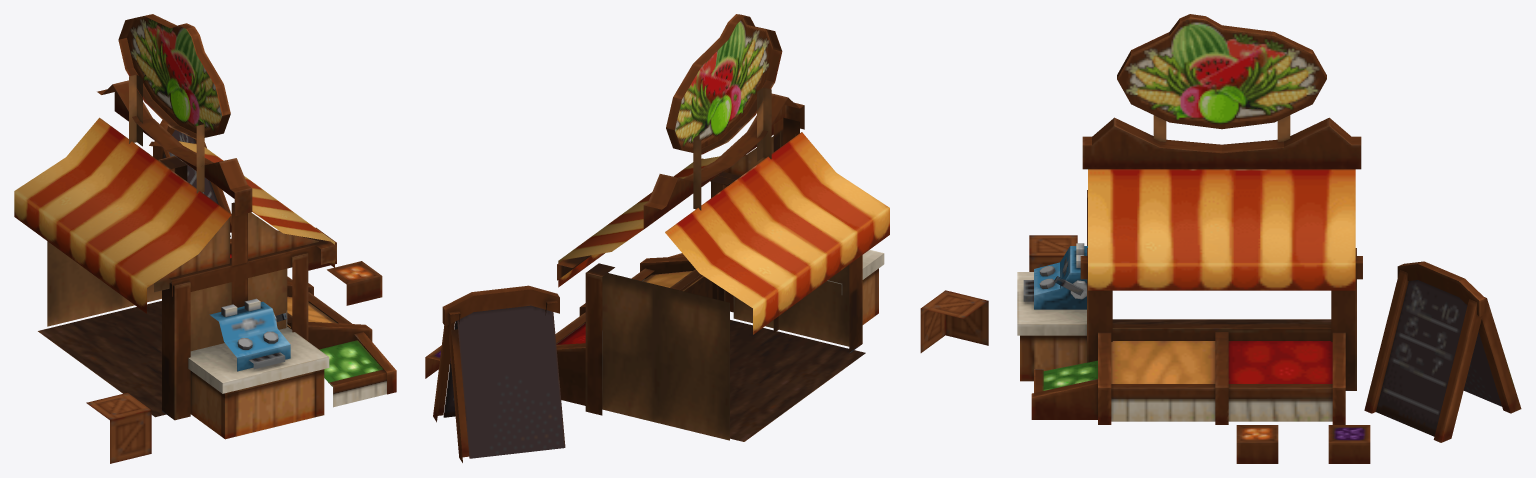
Rendered from market.gltf.
3 views of the same model, side by side, from view 1: azimuth 30°, elevation 25°; view 2: azimuth 150°, elevation 25°; view 3: azimuth 270°, elevation 25° (orthographic). The views are drawn at different scales.
Visible parts, largest first — view 1: polySurface155, polySurface108, polySurface129, polySurface111, polySurface110, polySurface141, polySurface158, polySurface136, polySurface109, polySurface112, polySurface135, polySurface149 (+16 smaller); view 2: polySurface155, polySurface141, polySurface128, polySurface108, polySurface129, polySurface136, polySurface109, polySurface152, polySurface149, polySurface126, polySurface127, polySurface144 (+12 smaller); view 3: polySurface149, polySurface108, polySurface128, polySurface109, polySurface121, polySurface120, polySurface126, polySurface118, polySurface111, polySurface110, polySurface124, polySurface112 (+12 smaller).
Boxes of the visible parts, x1,y1,x2,y2 form: polySurface155: (14, 117, 231, 313); polySurface108: (118, 14, 230, 139); polySurface129: (38, 301, 166, 417); polySurface111: (190, 369, 324, 439); polySurface110: (188, 327, 329, 393); polySurface141: (47, 165, 170, 326); polySurface158: (162, 281, 190, 420); polySurface136: (190, 268, 287, 351); polySurface109: (97, 80, 252, 216); polySurface112: (209, 301, 290, 371); polySurface135: (169, 238, 324, 296); polySurface149: (179, 141, 334, 267); polySurface155: (665, 132, 889, 334); polySurface141: (602, 273, 729, 440); polySurface128: (443, 305, 565, 458); polySurface108: (666, 14, 782, 154); polySurface129: (730, 320, 865, 441); polySurface136: (733, 181, 849, 346); polySurface109: (643, 93, 804, 229); polySurface152: (585, 263, 614, 415); polySurface149: (558, 156, 719, 287); polySurface126: (433, 311, 469, 462); polySurface127: (442, 285, 559, 326); polySurface144: (556, 343, 585, 405); polySurface149: (1088, 169, 1355, 290); polySurface108: (1117, 14, 1326, 129); polySurface128: (1376, 280, 1501, 436); polySurface109: (1082, 117, 1361, 169); polySurface121: (1111, 341, 1332, 383); polySurface120: (1111, 384, 1332, 421); polySurface126: (1433, 297, 1521, 442); polySurface118: (1112, 324, 1331, 340); polySurface111: (1020, 335, 1086, 381); polySurface110: (1017, 272, 1086, 335); polySurface124: (1031, 379, 1097, 419); polySurface112: (1034, 246, 1087, 309).
Size of the model in its own units: 0.2493 by 0.2151 by 0.2874.
Materials: 1 (1 with a texture image).
